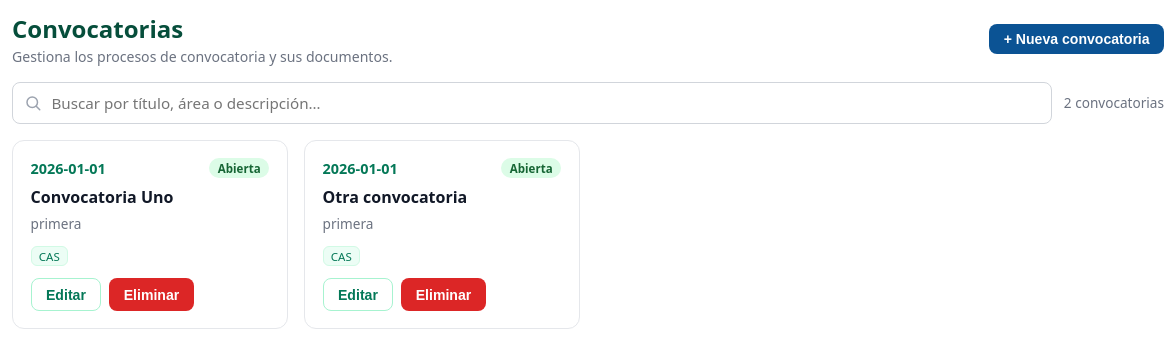
ListaConvocatorias › filtra por búsqueda
The width and height of the screenshot is (1176, 346).
Check: the heading "Convocatoria Uno" is shown, box [31,186,173,208]
Step 1. Type "Otra" into the search field → (532, 103), box [12,82,1052,124]
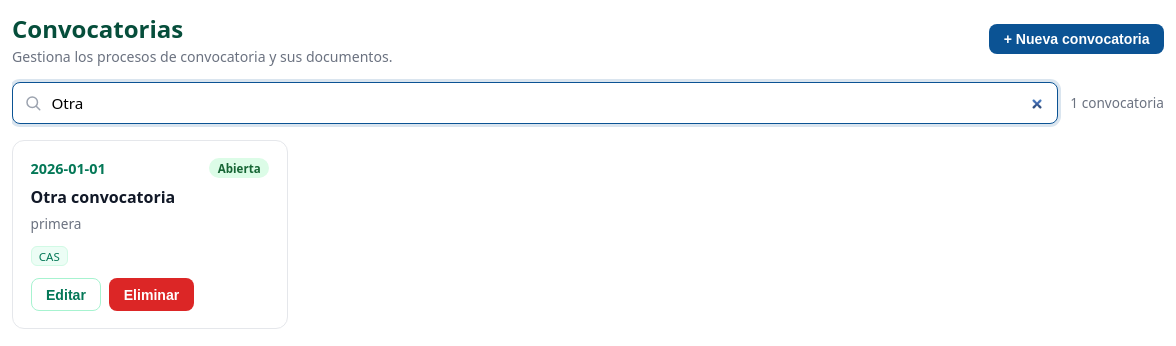
Check: the heading "Otra convocatoria" is shown, box [31,186,175,208]
Check: the heading "Convocatoria Uno" is gone
